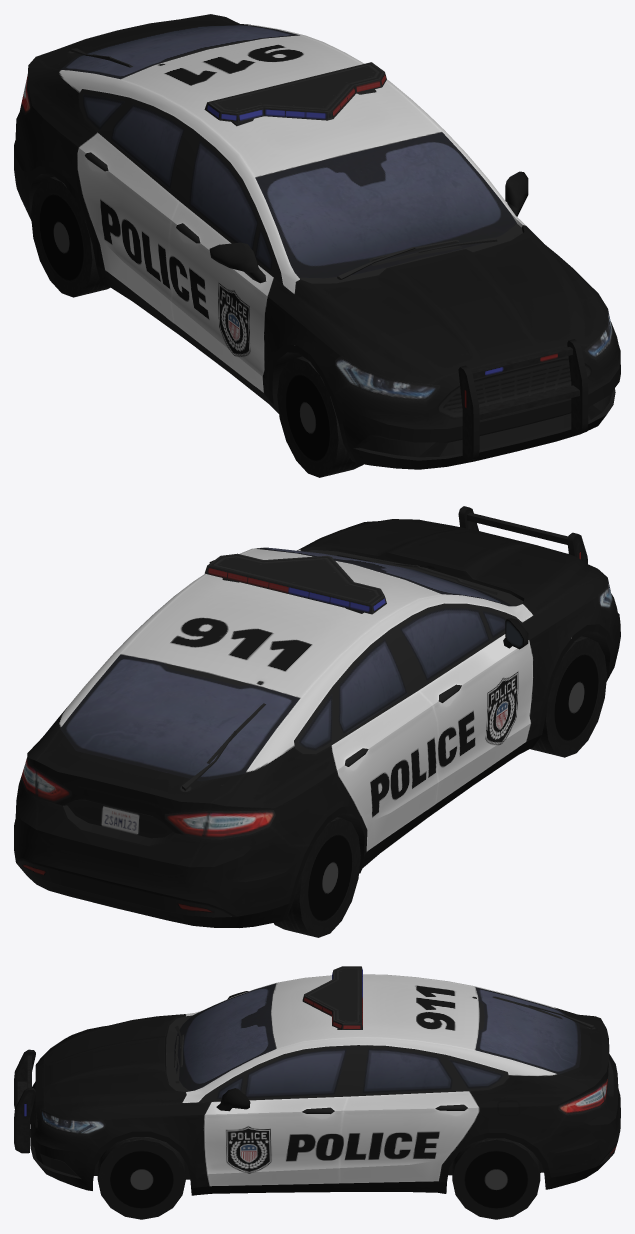
Rendered from policecar1.glb.
3 views of the same model, one above another, from view 1: azimuth 30°, elevation 25°; view 2: azimuth 150°, elevation 25°; view 3: azimuth 270°, elevation 25° (orthographic). The views are drawn at different scales.
Visible parts, largest first — view 1: Object_4, Object_2, Object_5, Object_3; view 2: Object_4, Object_2, Object_5, Object_3; view 3: Object_4, Object_2, Object_5, Object_3.
Part boxes in pixels (x1,y1,x2,y2): Object_4: (14, 14, 620, 469); Object_2: (31, 176, 363, 477); Object_5: (204, 62, 386, 126); Object_3: (458, 339, 588, 460); Object_4: (14, 519, 620, 927); Object_2: (274, 636, 607, 937); Object_5: (204, 553, 386, 614); Object_3: (458, 506, 587, 563); Object_4: (30, 974, 620, 1195); Object_2: (97, 1137, 540, 1219); Object_5: (302, 966, 362, 1029); Object_3: (14, 1049, 35, 1153).
Size of the model in its own units: 85.68 by 64.21 by 199.
Materials: 4 (4 with a texture image).
